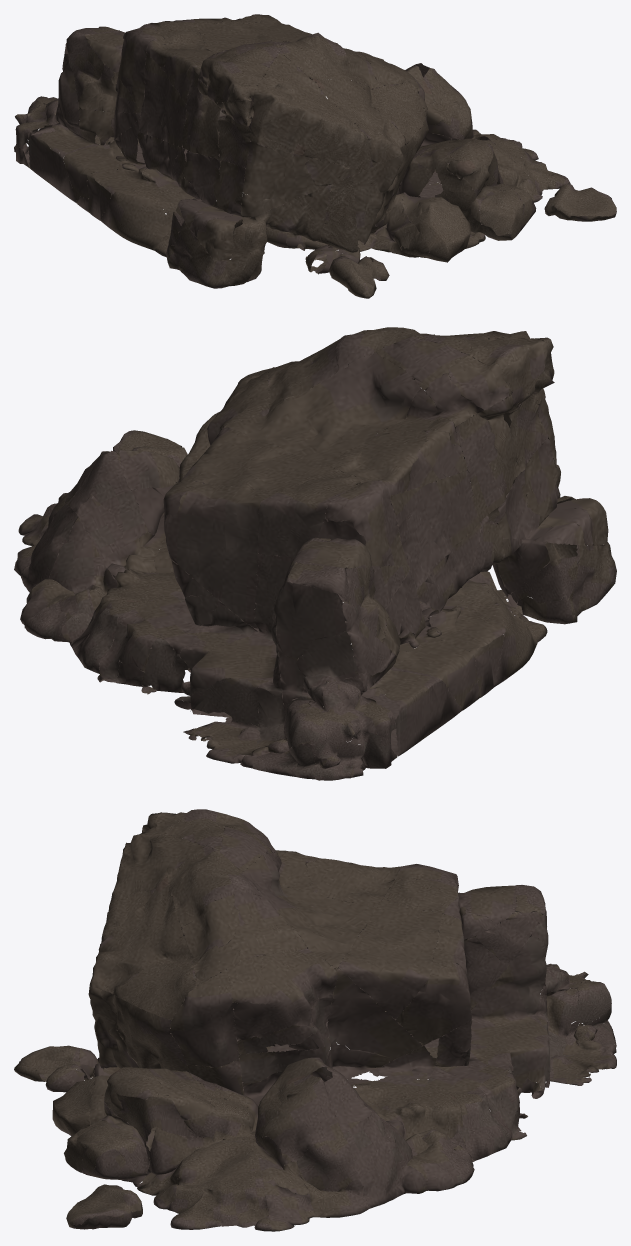
Rendered from rubble-broken.glb.
3 views of the same model, one above another, from view 1: azimuth 30°, elevation 25°; view 2: azimuth 150°, elevation 25°; view 3: azimuth 270°, elevation 25° (orthographic). The views are drawn at different scales.
Visible parts, largest first — view 1: asset; view 2: asset; view 3: asset.
Part boxes in pixels (box(x1,y1,x2,y2)): asset: box(14, 14, 616, 298); asset: box(14, 327, 616, 780); asset: box(14, 809, 616, 1231).
Size of the model in its own units: 1.69 by 0.7962 by 1.9.
Materials: 1 (1 with a texture image).
